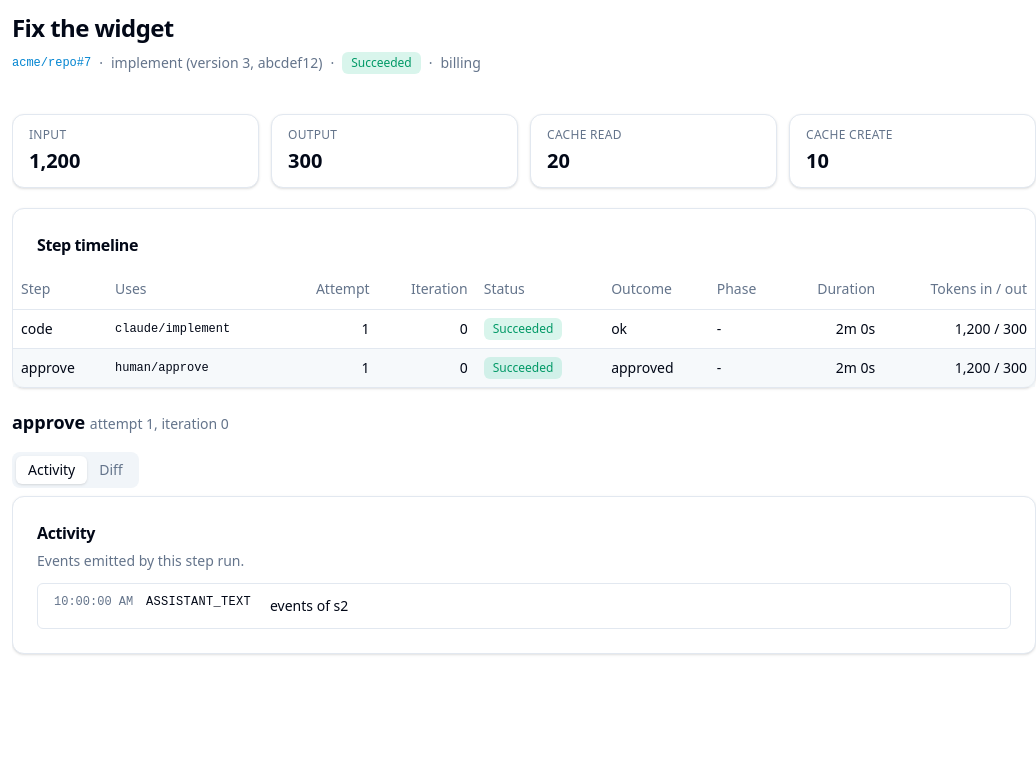
Test: ProcessDetailPage › step timeline › shows the step diff in the diff tab
This screenshot has width=1036, height=780.
Expected: the text "events of s2" is shown, [270, 596, 348, 614]
Click the tab "Diff" at {"x": 111, "y": 470}, box [87, 456, 135, 484]
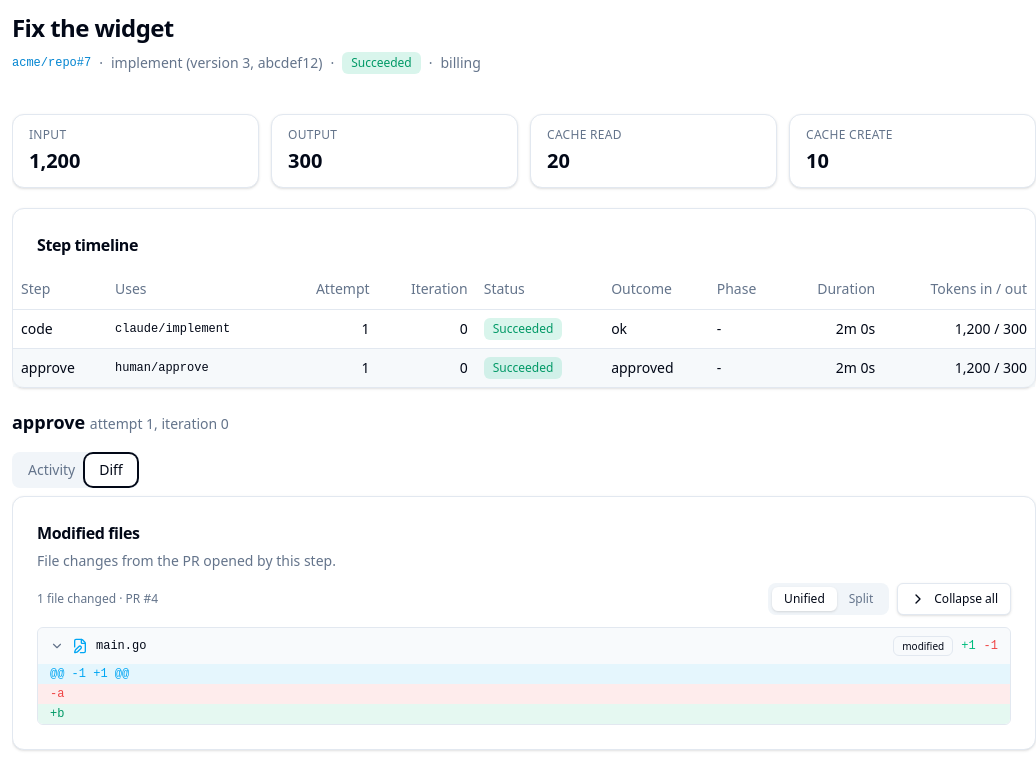
Result: the text "main.go" is shown at [96, 638, 146, 654]
